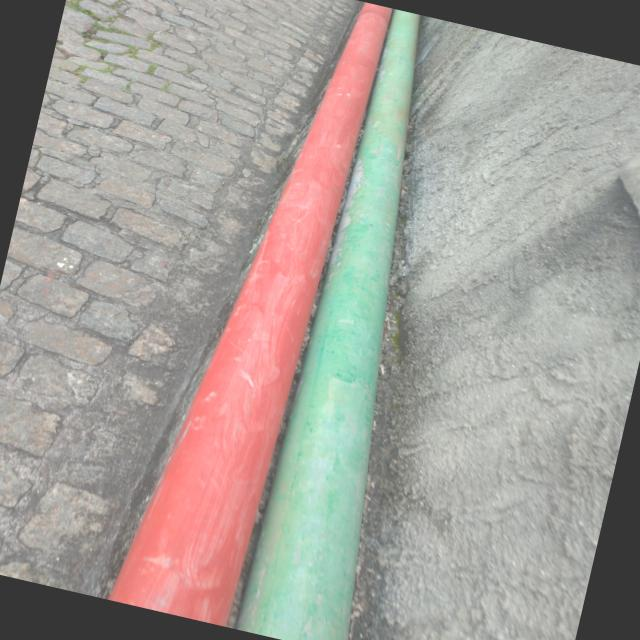gas: (110, 2, 391, 627), (237, 9, 418, 640)
